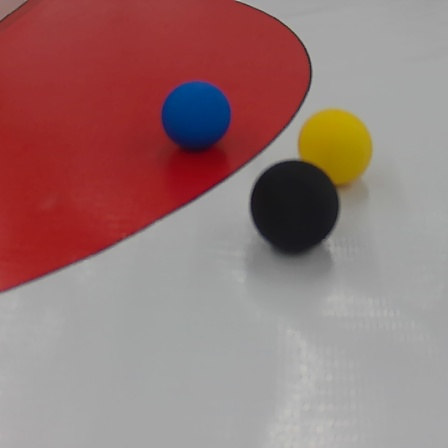black: (250, 155, 345, 261)
blue: (157, 83, 234, 149)
red_base: (1, 0, 311, 309)
yellow: (302, 107, 377, 185)
